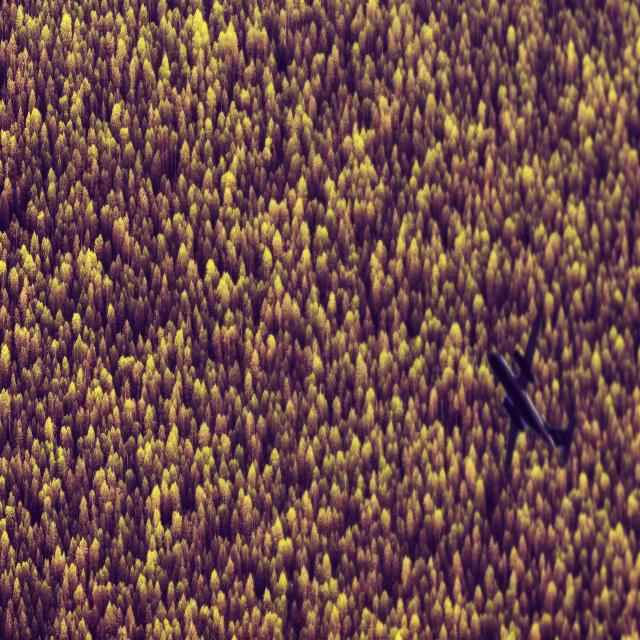airplane: (485, 308, 574, 478)
